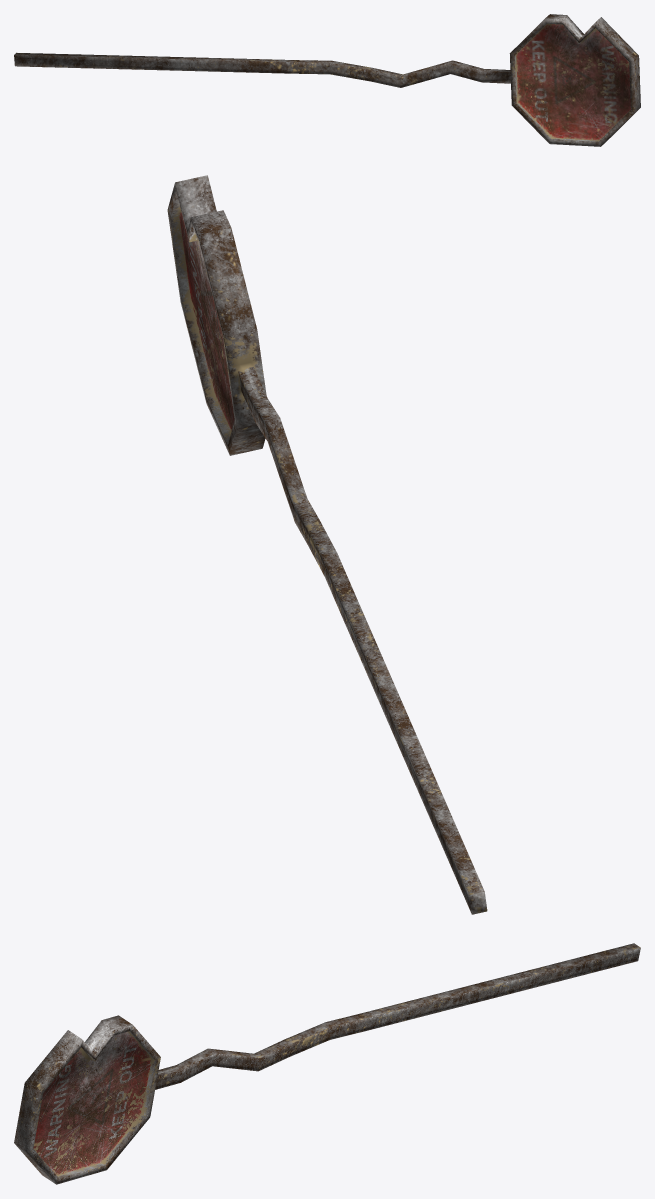
The model's file is Anim_idle_senyal_objetos.0035.obj.
3 renders of one model, top to bottom at view 1: azimuth 30°, elevation 25°; view 2: azimuth 150°, elevation 25°; view 3: azimuth 270°, elevation 25°, orthographic. The views are drawn at different scales.
Size of the model in its own units: 8.66 by 2.59 by 9.4.
